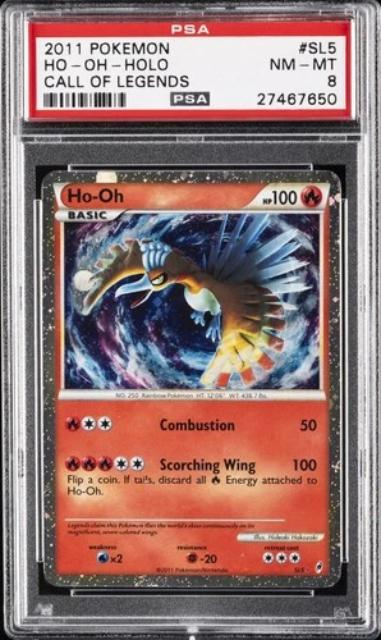Card: (36, 164, 348, 593)
Name: (61, 183, 129, 211)
